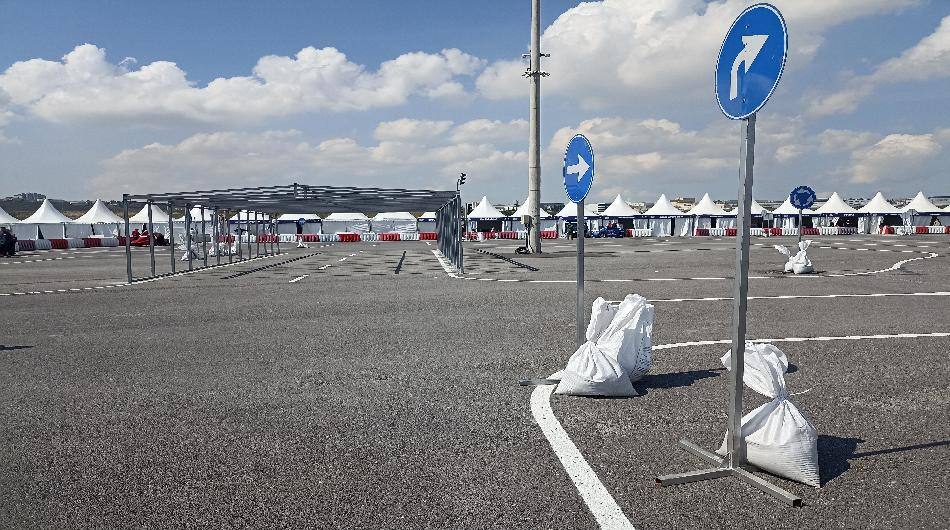ada: (791, 186, 818, 215)
saga_mecburi_1: (564, 133, 600, 208)
saga_mecburi_2: (710, 3, 795, 125)
